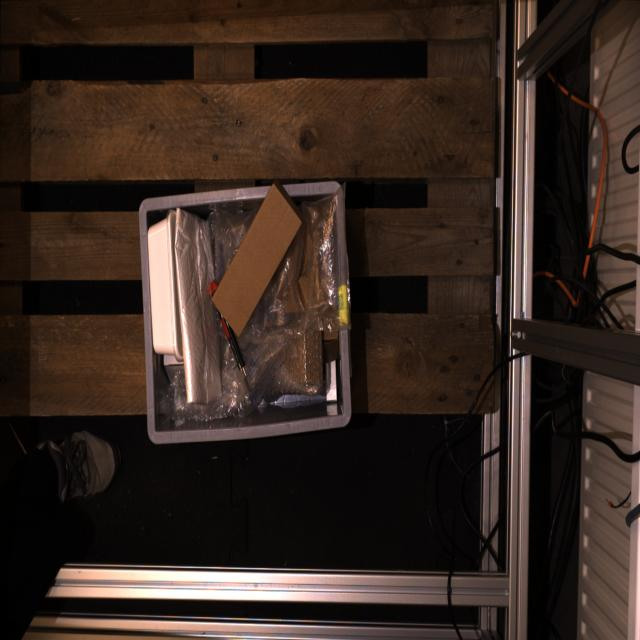BoxInsideWrap: (271, 320, 323, 387)
CardboardBox: (211, 177, 303, 335), (323, 329, 339, 363), (326, 361, 337, 402)
Package: (176, 207, 222, 406)
PackagingAirBags: (220, 219, 306, 405), (302, 187, 350, 331), (159, 365, 255, 426), (207, 202, 260, 283)
PlasticContainer: (147, 210, 183, 361)
